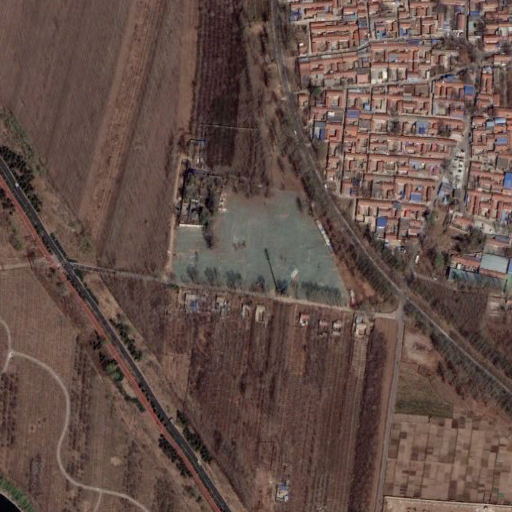cw: (167, 185, 351, 308)
